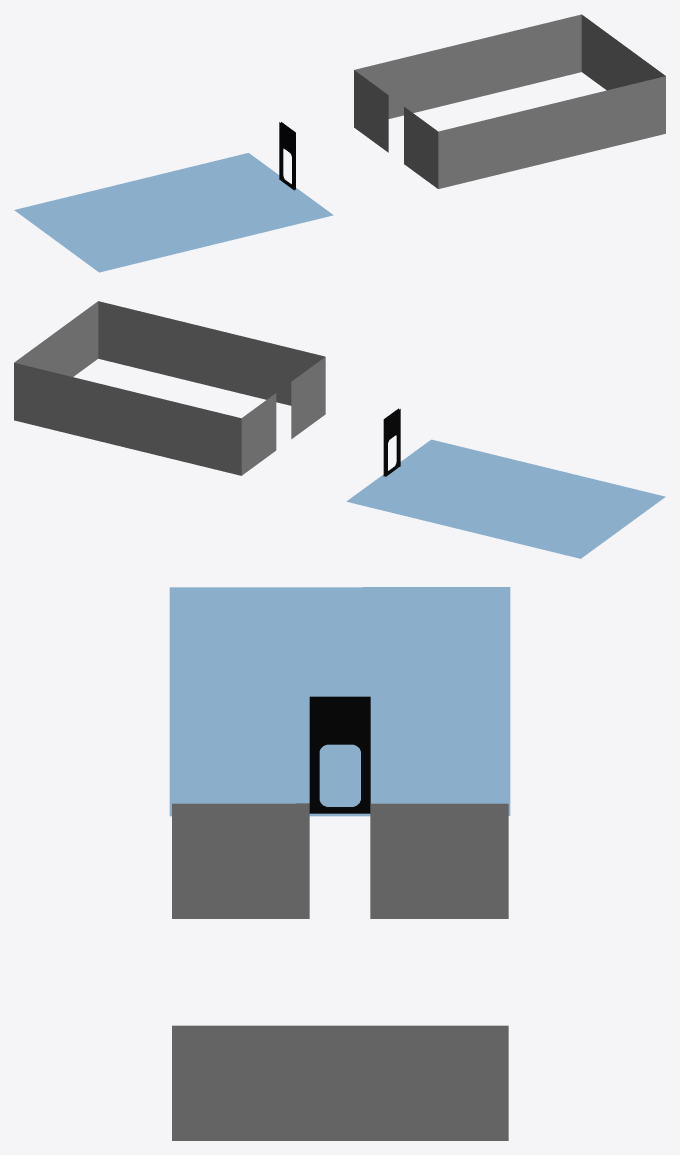
Rendered from engine room.FBX.
3 renders of one model, top to bottom at view 1: azimuth 30°, elevation 25°; view 2: azimuth 150°, elevation 25°; view 3: azimuth 270°, elevation 25°, orthographic. The views are drawn at different scales.
Parts seen in each view (by area): view 1: Object136, Box035, Object137; view 2: Object136, Box035, Object137; view 3: Object136, Box035, Object137.
Part boxes in pixels (x1=…): Object136: x1=354, y1=14, x2=665, y2=188; Box035: x1=14, y1=153, x2=333, y2=272; Object137: x1=279, y1=122, x2=295, y2=190; Object136: x1=14, y1=301, x2=325, y2=475; Box035: x1=346, y1=439, x2=665, y2=558; Object137: x1=383, y1=408, x2=400, y2=476; Object136: x1=172, y1=803, x2=508, y2=1140; Box035: x1=169, y1=587, x2=510, y2=816; Object137: x1=309, y1=696, x2=370, y2=813.
Size of the model in its own units: 317 by 30.78 by 82.32.
